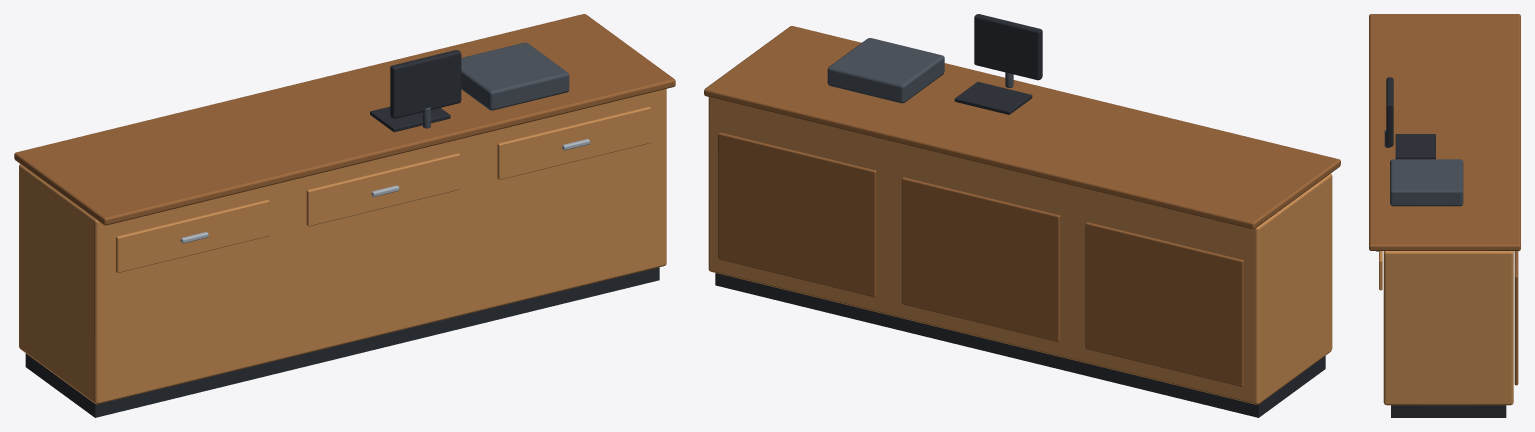
File: balcao_modulo_caixa.glb
3 renders of one model, left to right at view 1: azimuth 30°, elevation 25°; view 2: azimuth 150°, elevation 25°; view 3: azimuth 270°, elevation 25°, orthographic. The views are drawn at different scales.
Parts seen in each view (by area): view 1: corpo, tampo, gaveta (×3), rodape, gaveta_caixa, monitor, teclado; view 2: painel_frente (×3), corpo, tampo, rodape, gaveta_caixa, monitor, teclado; view 3: tampo, corpo, gaveta_caixa, rodape, teclado, painel_frente, monitor, gaveta.
Boxes of the visible parts, left/top/right/bottom form: corpo: left=19, top=89, right=666, bottom=404; tampo: left=14, top=14, right=675, bottom=225; gaveta (×3): left=116, top=106, right=650, bottom=272; rodape: left=25, top=267, right=659, bottom=417; gaveta_caixa: left=461, top=42, right=569, bottom=110; monitor: left=390, top=50, right=461, bottom=118; teclado: left=370, top=106, right=450, bottom=132; painel_frente (×3): left=718, top=132, right=1243, bottom=386; corpo: left=708, top=97, right=1332, bottom=404; tampo: left=704, top=26, right=1340, bottom=229; rodape: left=715, top=273, right=1325, bottom=417; gaveta_caixa: left=827, top=38, right=944, bottom=103; monitor: left=974, top=14, right=1042, bottom=80; teclado: left=954, top=81, right=1032, bottom=114; tampo: left=1369, top=14, right=1520, bottom=250; corpo: left=1383, top=251, right=1513, bottom=405; gaveta_caixa: left=1390, top=159, right=1463, bottom=206; rodape: left=1391, top=405, right=1506, bottom=417; teclado: left=1395, top=134, right=1435, bottom=159; painel_frente: left=1514, top=251, right=1518, bottom=385; monitor: left=1386, top=77, right=1393, bottom=146; gaveta: left=1379, top=251, right=1382, bottom=290.
Size of the model in its own units: 3 by 1.4 by 0.83.
